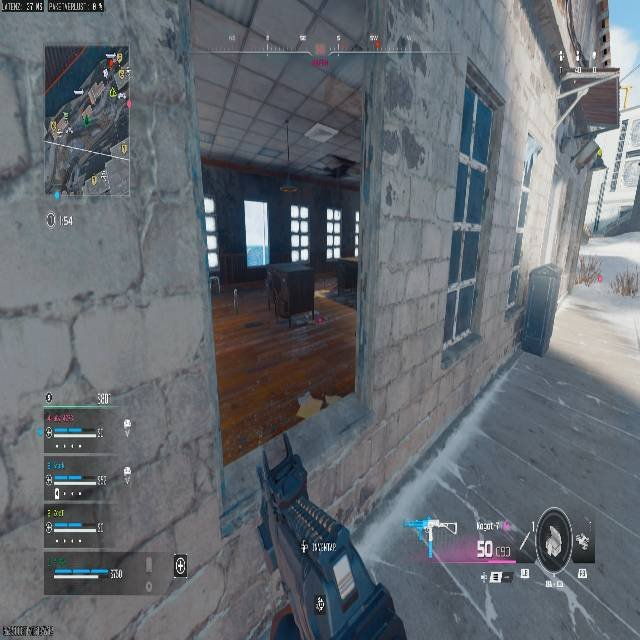player: (46, 52, 134, 198)
